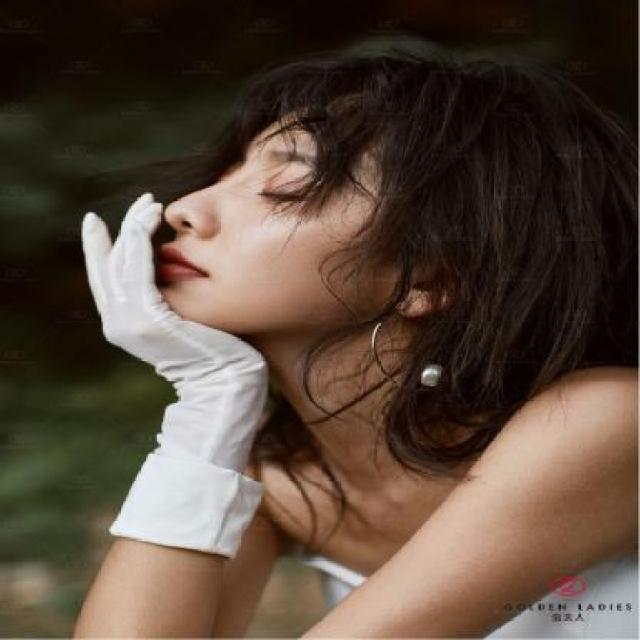face_nomask: (153, 128, 404, 317)
hand_glove: (63, 189, 274, 443)
head_nohelmet: (281, 23, 614, 183)
person: (27, 44, 640, 640)
